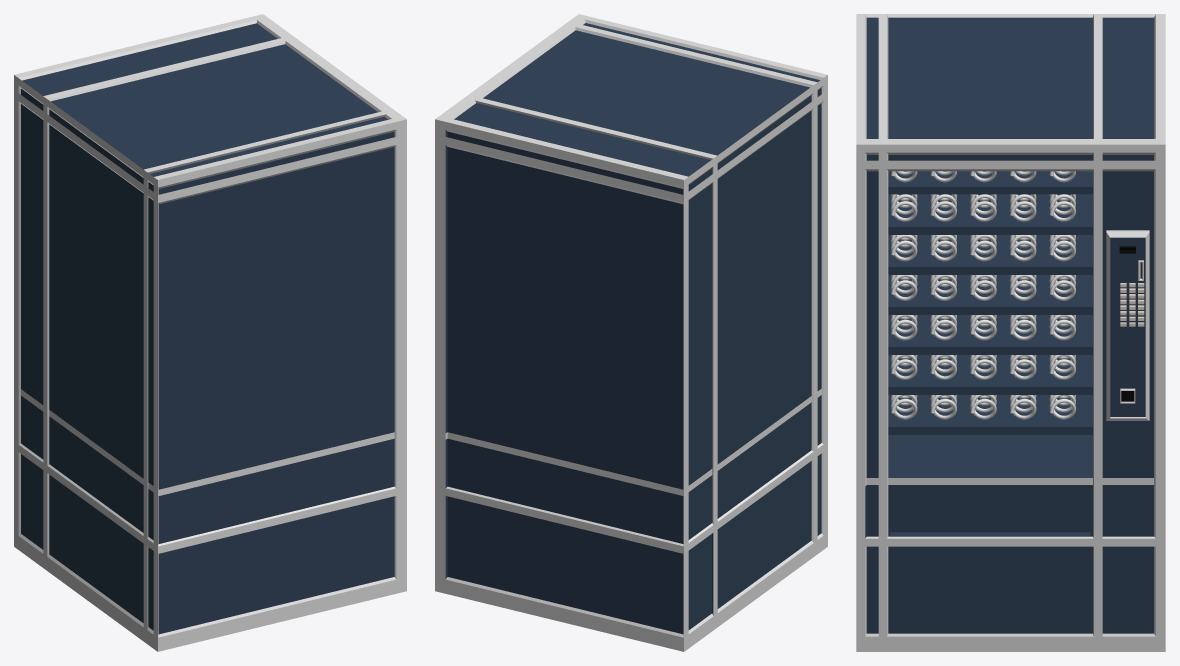
The model's file is vend3.glb.
The picture shows the model from 3 angles, left to right: view 1: azimuth 30°, elevation 25°; view 2: azimuth 150°, elevation 25°; view 3: azimuth 270°, elevation 25°; orthographic projection. The views are drawn at different scales.
Parts seen in each view (by area): view 1: Circle.001; view 2: Circle.001; view 3: Circle.001.
Boxes of the visible parts, x1,y1,x2,y2 form: Circle.001: (14,14,406,651); Circle.001: (435,14,827,651); Circle.001: (856,14,1165,651).
Bounding box in the file's own units: 15.02 × 26.59 × 14.69.
